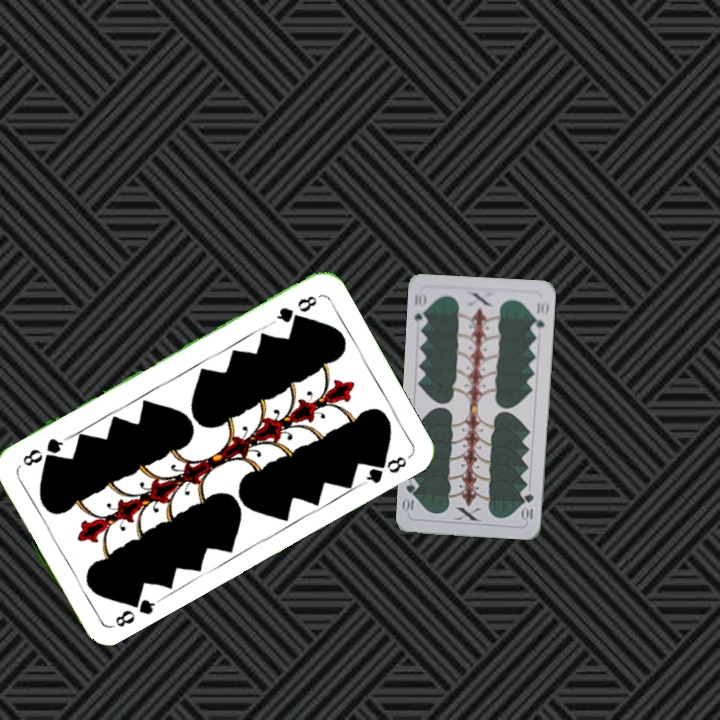G10: (410, 288, 430, 329), (520, 489, 536, 523)
G8: (106, 589, 158, 632), (268, 291, 320, 327)
